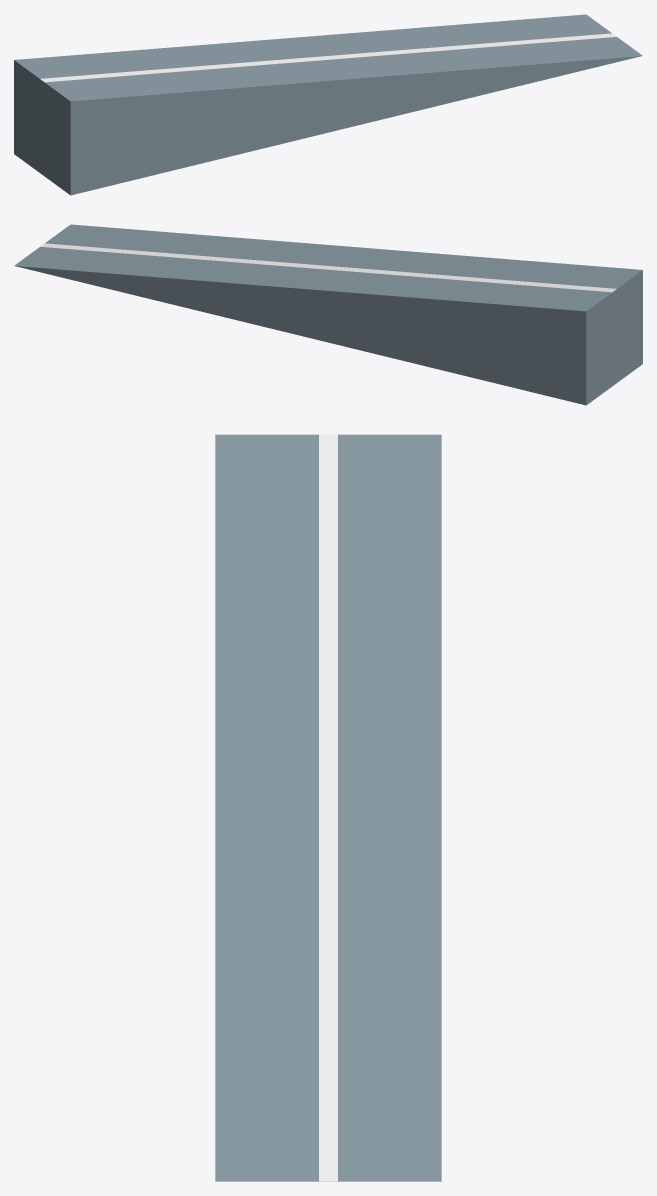
Rendered from SlopeIn.dae.
3 views of the same model, one above another, from view 1: azimuth 30°, elevation 25°; view 2: azimuth 150°, elevation 25°; view 3: azimuth 270°, elevation 25° (orthographic). The views are drawn at different scales.
Visible parts, largest first — view 1: Slope In; view 2: Slope In; view 3: Slope In.
Part boxes in pixels (bbox=[...]): Slope In: bbox=[14, 14, 642, 195]; Slope In: bbox=[14, 224, 642, 405]; Slope In: bbox=[215, 434, 441, 1181].
Bounding box in the file's own units: 3.5 × 0.6 × 0.5505.
